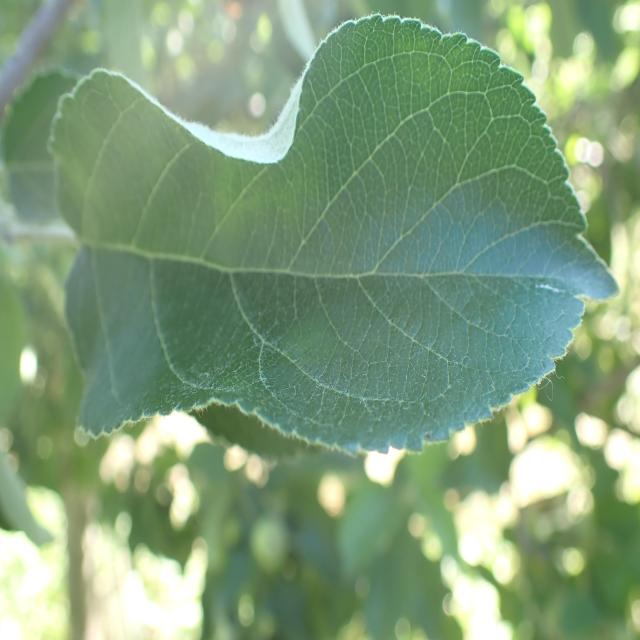healthy: (48, 14, 620, 458)
